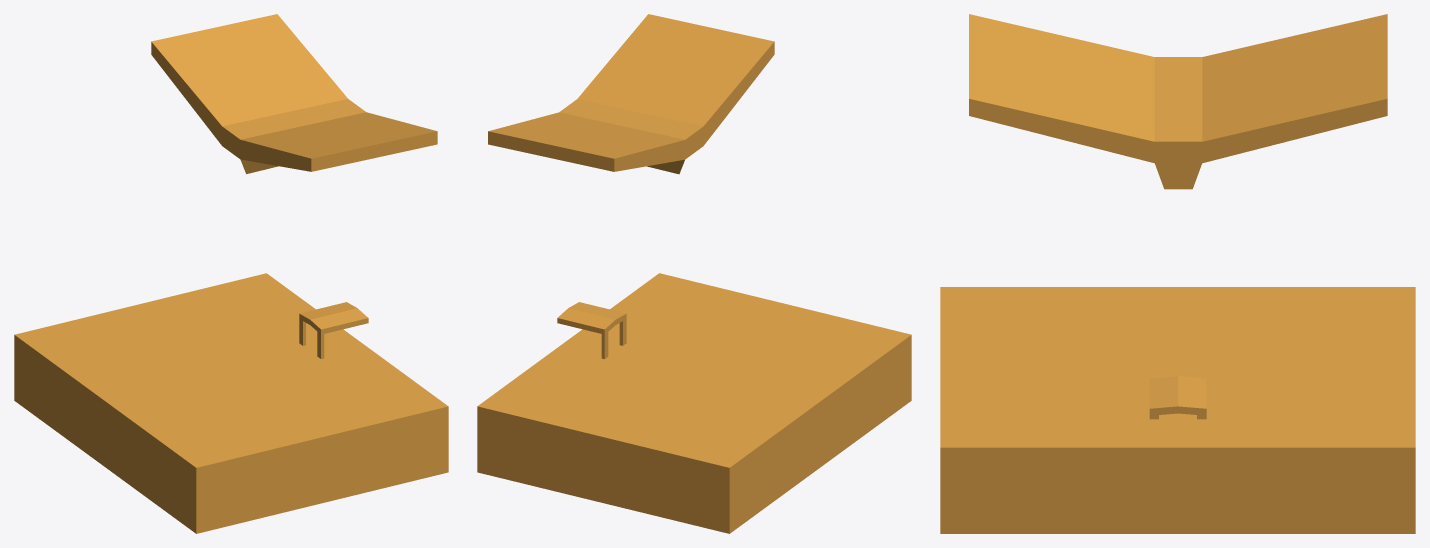
File: train-station-platform-end-small.glb
3 renders of one model, left to right at view 1: azimuth 30°, elevation 25°; view 2: azimuth 150°, elevation 25°; view 3: azimuth 270°, elevation 25°, orthographic. The views are drawn at different scales.
Parts seen in each view (by area): view 1: train-station-platform-small-end; view 2: train-station-platform-small-end; view 3: train-station-platform-small-end.
Boxes of the visible parts, box(x1,y1,x2,y2) form: train-station-platform-small-end: box(14, 14, 448, 533); train-station-platform-small-end: box(477, 14, 911, 533); train-station-platform-small-end: box(940, 14, 1415, 533).
Bounding box in the file's own units: 4 × 5.1 × 5.
